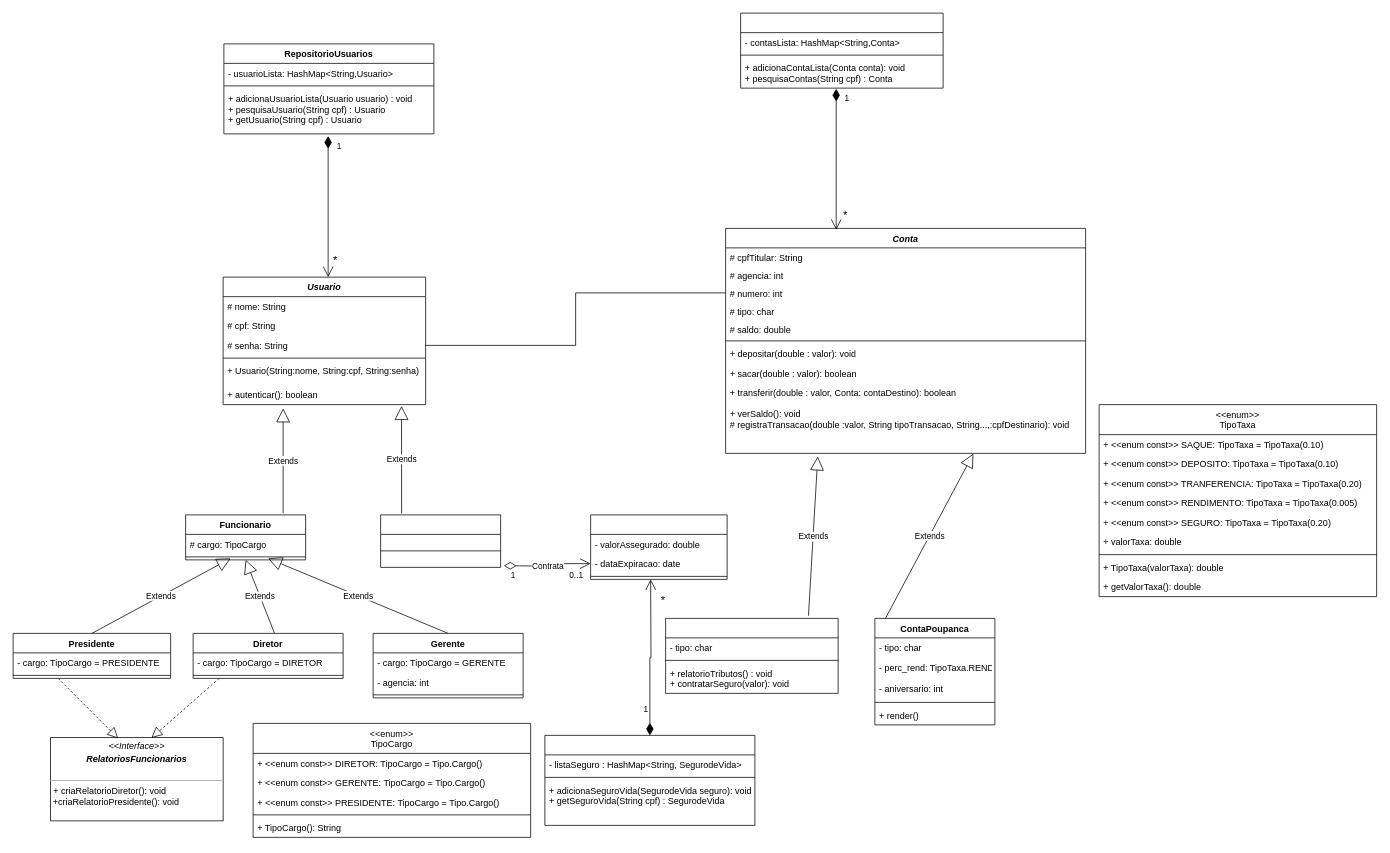
The diagram is 1390 pixels wide and 853 high, and some of its shapes have lost their labels. The box of each missing label's shape, as (x1, y1, x2, y2) in pixels:
Cliente: (380, 514, 501, 567)
ContaCorrente: (665, 618, 838, 693)
RepositorioContas: (740, 12, 943, 88)
RepositorioSeguroVida: (544, 735, 755, 825)
SeguroVida: (590, 514, 727, 579)
